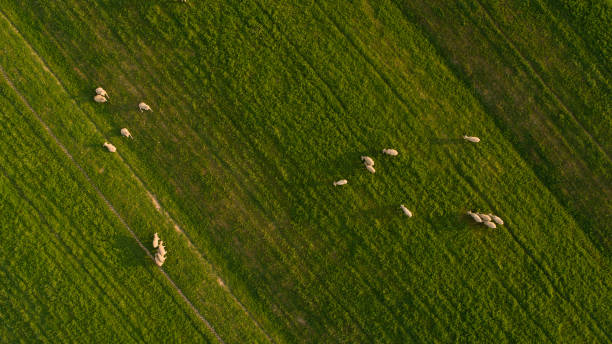sheep: (399, 204, 415, 220), (461, 133, 482, 145), (466, 210, 482, 225), (489, 212, 503, 228), (478, 209, 494, 222), (118, 128, 135, 140), (104, 141, 117, 155), (154, 252, 168, 265), (482, 220, 498, 231), (362, 162, 378, 173), (382, 148, 401, 157), (360, 156, 375, 167), (94, 86, 109, 96), (332, 178, 348, 187), (138, 101, 151, 112), (160, 242, 170, 256), (151, 233, 159, 249), (92, 95, 110, 102)
